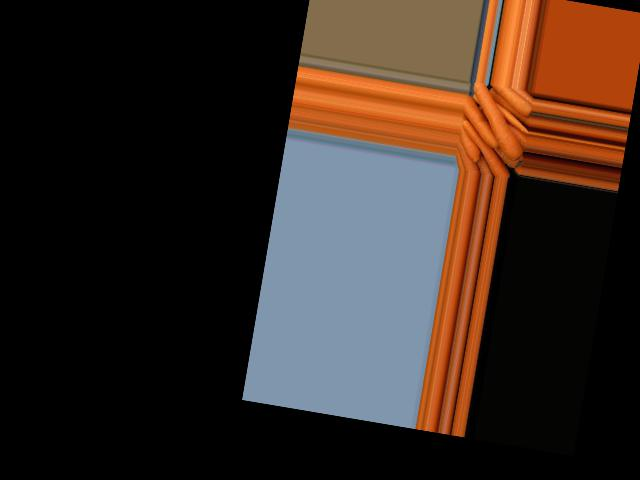carrot: (456, 122, 511, 178)
